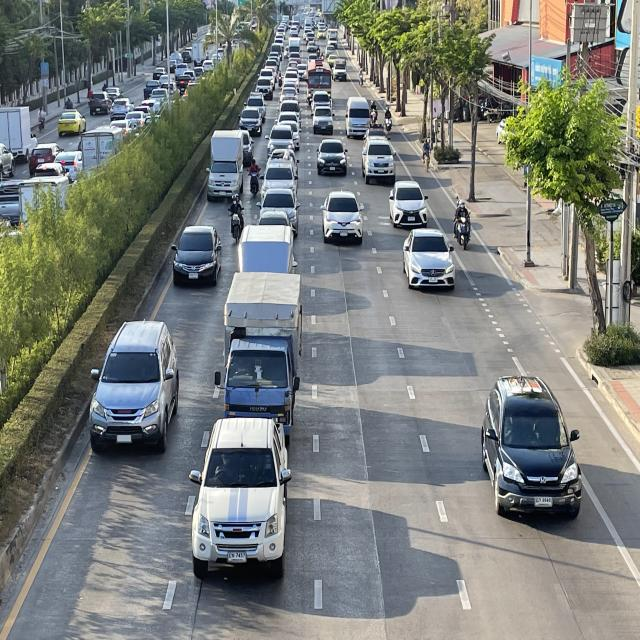bike: (452, 195, 472, 254), (228, 193, 244, 243), (248, 154, 260, 199)
car: (191, 415, 293, 588), (480, 371, 584, 527), (87, 318, 179, 456), (170, 226, 223, 292), (388, 176, 429, 229), (257, 187, 300, 237), (362, 131, 396, 185), (316, 139, 348, 174)
truck: (216, 272, 302, 443), (237, 223, 296, 274), (207, 129, 244, 203)
